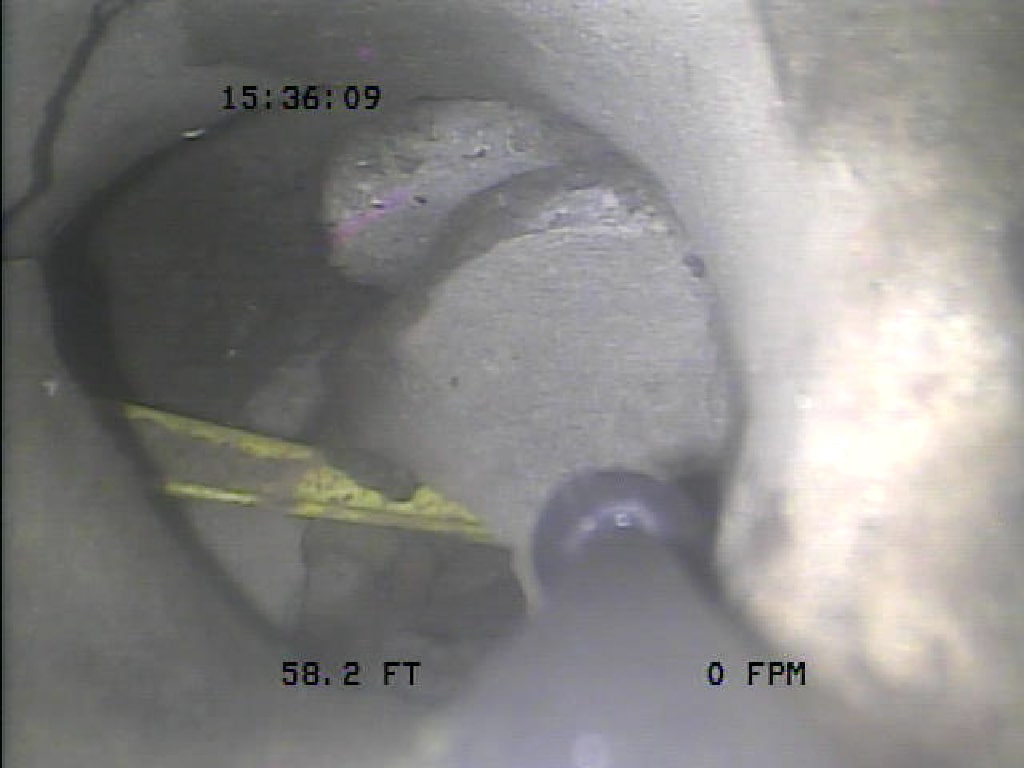cb: (78, 363, 514, 550)
